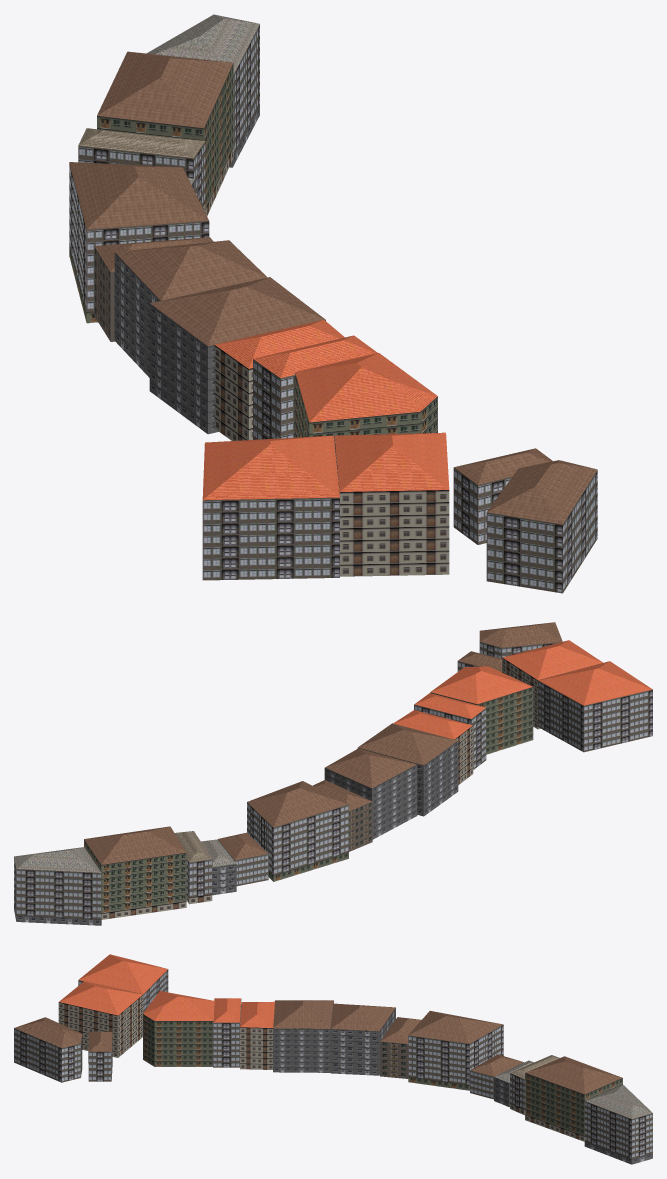
The model's file is GrupoEdificios3.FBX.
3 views of the same model, one above another, from view 1: azimuth 30°, elevation 25°; view 2: azimuth 150°, elevation 25°; view 3: azimuth 270°, elevation 25° (orthographic). The views are drawn at different scales.
Visible parts, largest first — view 1: Model41, Model16, Model9, Model2, Model25, Model47, Model43, Model60, Model15, Model42, Model24, Model52 (+2 smaller); view 2: Model41, Model25, Model47, Model15, Model43, Model60, Model9, Model16, Model2, Model24, Model42, Model52 (+4 smaller); view 3: Model25, Model47, Model43, Model16, Model15, Model9, Model60, Model2, Model41, Model42, Model24, Model27 (+4 smaller).
Boxes of the visible parts, x1,y1,x2,y2 form: Model41: (202,435,339,580); Model16: (334,432,449,576); Model9: (149,277,325,434); Model2: (486,460,597,593); Model25: (69,162,209,323); Model47: (97,51,233,216); Model43: (295,353,437,440); Model60: (114,240,267,377); Model15: (146,14,259,167); Model42: (214,319,344,440); Model24: (253,335,377,439); Model52: (78,128,205,212); Model41: (538,661,652,752); Model25: (247,781,348,881); Model47: (84,826,186,919); Model15: (14,847,101,925); Model43: (430,666,533,754); Model60: (324,748,417,839); Model9: (357,723,458,816); Model16: (502,640,603,729); Model2: (479,622,562,658); Model24: (414,693,486,769); Model42: (393,710,473,784); Model52: (175,831,212,904); Model25: (408,1011,503,1090); Model47: (525,1056,622,1141); Model43: (143,991,214,1066); Model16: (58,981,143,1057); Model15: (584,1084,652,1164); Model9: (273,1000,333,1072); Model60: (330,1003,395,1075); Model2: (14,1017,82,1082); Model41: (78,954,168,1012); Model42: (240,1001,274,1069); Model24: (213,998,241,1067); Model27: (380,1017,421,1078).
Bounding box in the file's own units: 16004 × 4360 × 30573.
